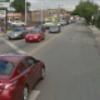cars: (25, 28, 45, 42)
